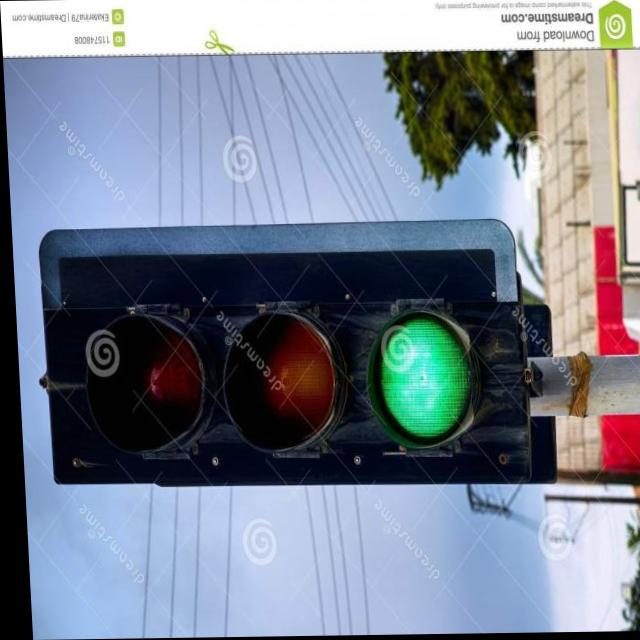green light: (41, 249, 503, 485)
